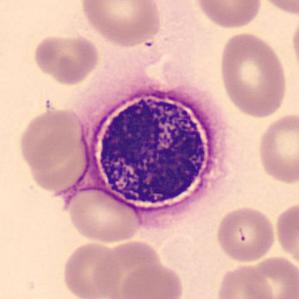Basophil: (84, 80, 239, 231)
RBC: (217, 30, 289, 120), (64, 183, 142, 244), (90, 238, 164, 299), (16, 106, 84, 171), (27, 131, 93, 195), (78, 0, 164, 48), (32, 31, 101, 86), (60, 239, 123, 299), (214, 204, 277, 264), (255, 110, 298, 186), (117, 261, 185, 299), (242, 253, 298, 299), (215, 262, 275, 299), (191, 0, 264, 30), (273, 200, 298, 268), (255, 0, 299, 16), (289, 10, 299, 74)
